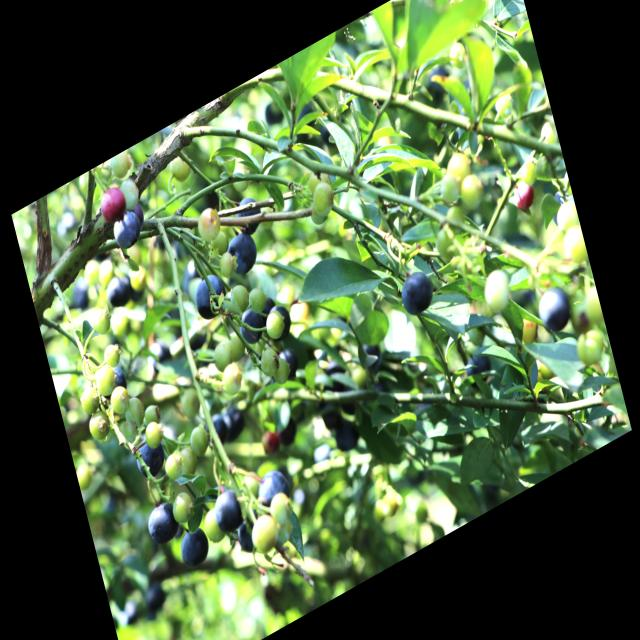blueberry: (532, 276, 578, 345), (251, 460, 294, 515), (190, 268, 230, 324), (209, 481, 247, 538), (397, 266, 436, 320), (175, 519, 213, 574), (144, 496, 182, 550), (224, 227, 260, 280), (232, 505, 267, 558), (132, 432, 169, 482), (110, 206, 144, 255), (462, 347, 496, 394), (234, 192, 264, 240), (103, 266, 134, 312), (237, 303, 267, 349), (265, 300, 294, 343), (202, 408, 230, 452), (102, 360, 129, 400), (277, 345, 302, 381), (130, 200, 147, 233)
blueberry-halfripe: (96, 182, 130, 229), (512, 176, 536, 213)
blueberry-unripe: (194, 204, 222, 247), (250, 511, 278, 551), (310, 178, 336, 218), (168, 488, 195, 526), (85, 405, 112, 442), (268, 490, 294, 528), (175, 442, 200, 480), (94, 361, 118, 399), (179, 383, 202, 422), (188, 423, 212, 460), (108, 382, 132, 418), (227, 280, 251, 316), (258, 345, 282, 381), (122, 394, 146, 429), (90, 304, 114, 338), (211, 339, 234, 374), (220, 360, 243, 394), (80, 383, 102, 418), (143, 418, 165, 452), (270, 353, 292, 387), (246, 283, 268, 316), (226, 328, 247, 361), (102, 339, 123, 371), (119, 416, 140, 447), (164, 450, 184, 480), (211, 228, 231, 257), (142, 400, 162, 428)
